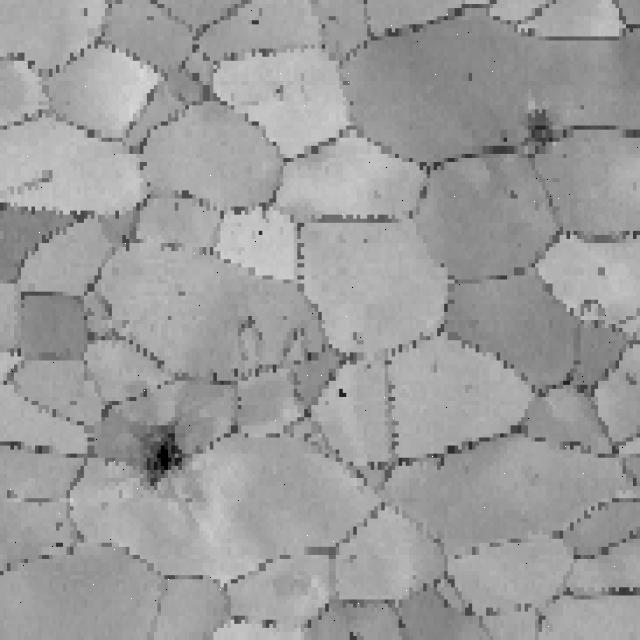good_void: (135, 413, 208, 497), (503, 108, 568, 165), (237, 313, 266, 343), (274, 77, 289, 100), (462, 68, 478, 85), (594, 262, 607, 278), (336, 388, 347, 402)
